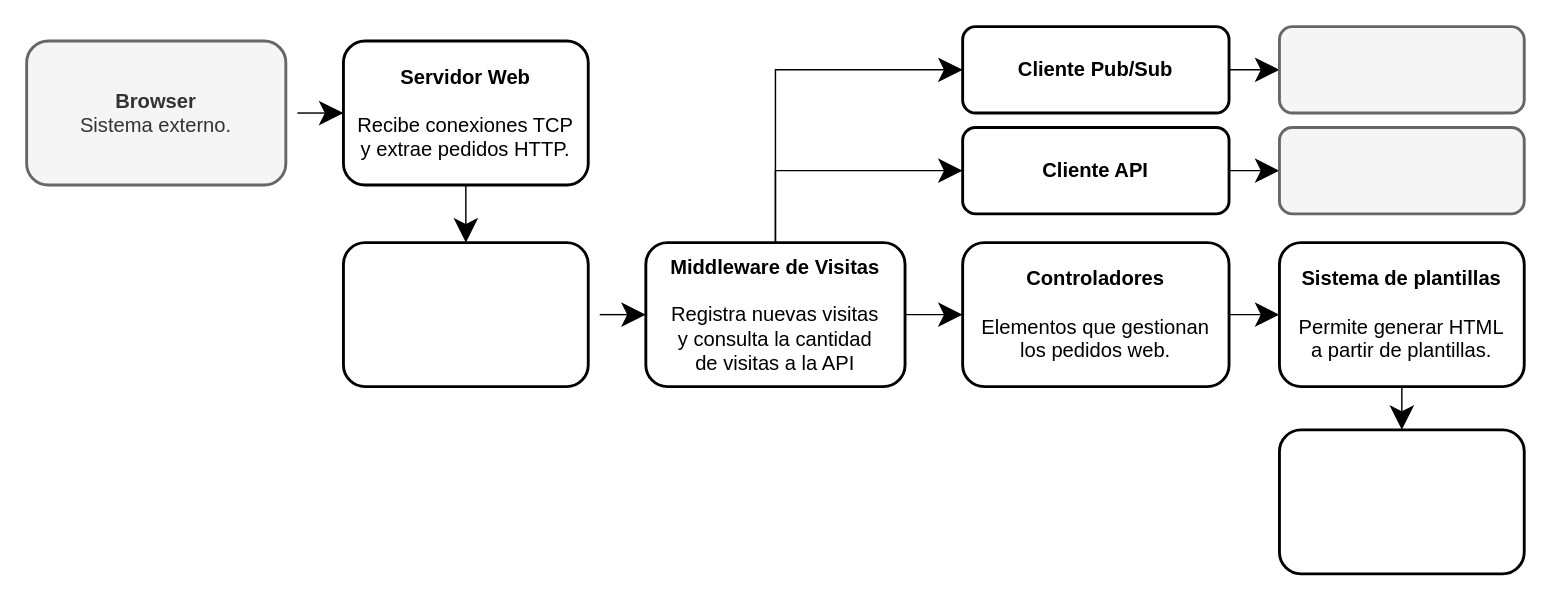
This 1549x599 diagram has some shape labels left out. The shapes that lost their labels are listed below. From the top down, each one's centre as x and y in pixels, then its label:
At (1401,69): "Pub/Sub Sistema externo.".
At (1401,170): "API Contenedor externo.".
At (465,313): "Middleware de Archivos Estáticos Gestiona los pedidos por recursos estáticos.".
At (1401,501): "Lector de archivos Permite cargar las plantillas para generar código HTML.".
